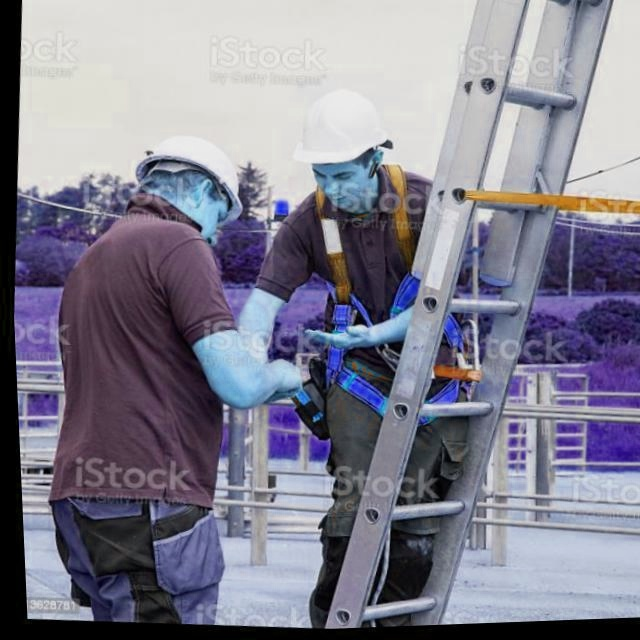safety belt: (294, 215, 478, 445)
